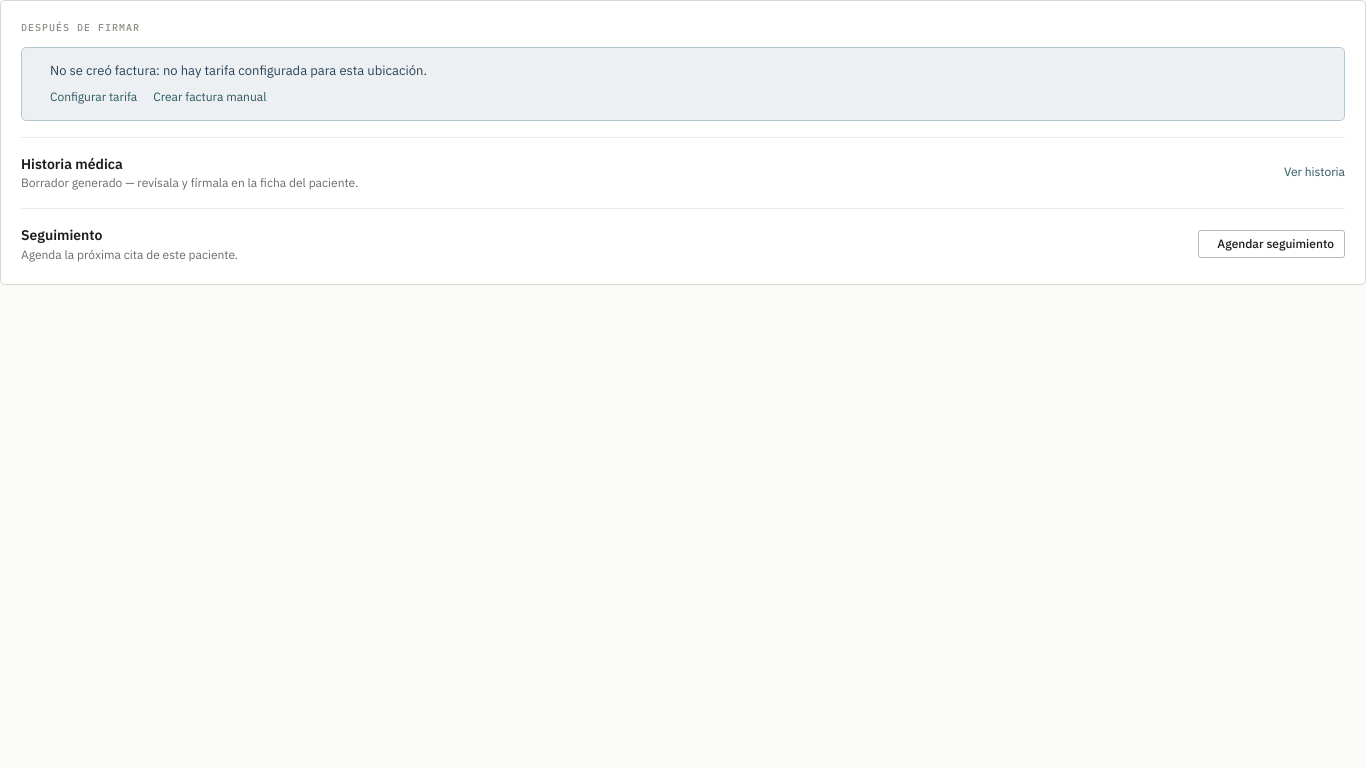
Test case: PostSignPanel follow-up block › opens the appointment form modal pre-filled for the patient
Click the button "Agendar seguimiento". click: [1272, 244]
box: [1198,230,1345,258]
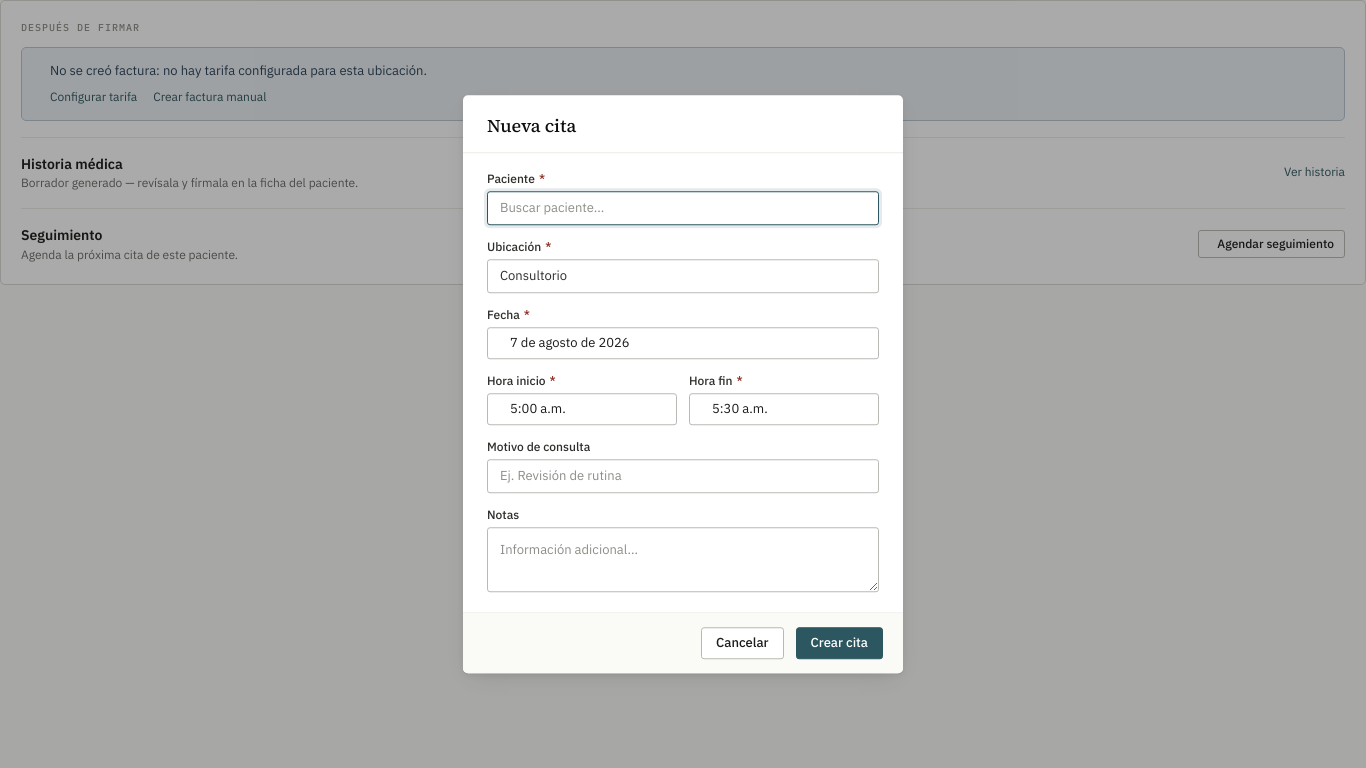
Expected: the heading "Nueva cita" is shown, [487,113,576,138]
